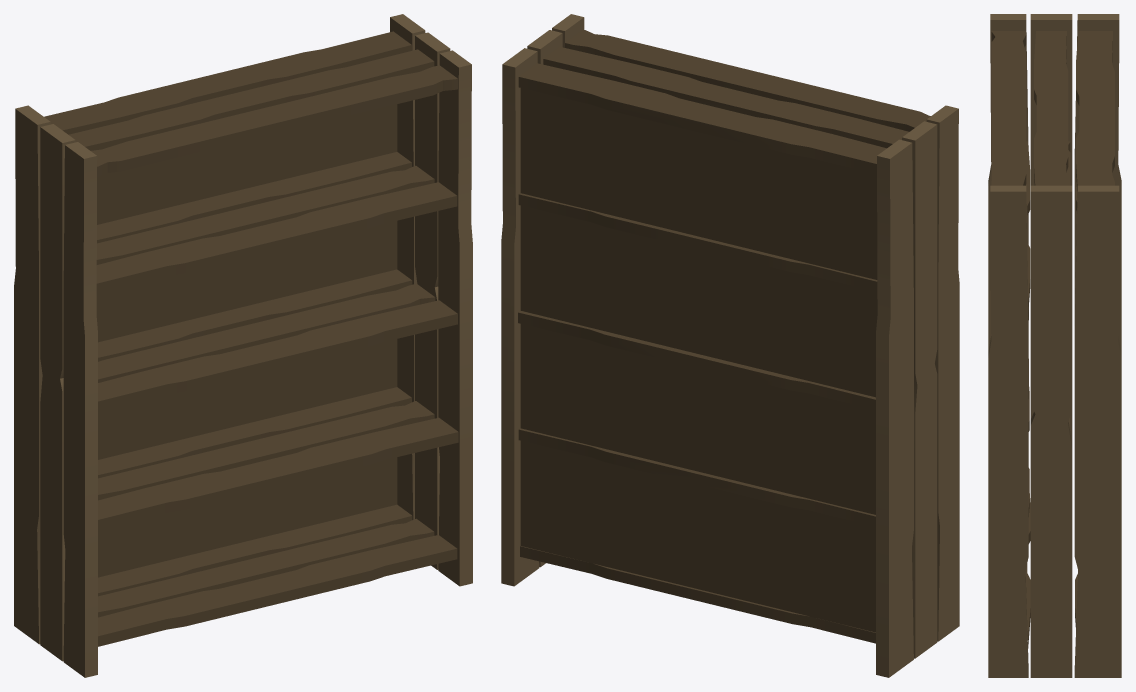
File: quaternius-ultimate-modular-ruins-bookcase-empty.glb
3 views of the same model, side by side, from view 1: azimuth 30°, elevation 25°; view 2: azimuth 150°, elevation 25°; view 3: azimuth 270°, elevation 25° (orthographic). The views are drawn at different scales.
Visible parts, largest first — view 1: Bookcase_Empty; view 2: Bookcase_Empty; view 3: Bookcase_Empty.
Boxes of the visible parts, x1,y1,x2,y2 form: Bookcase_Empty: (14,14,472,677); Bookcase_Empty: (501,14,959,677); Bookcase_Empty: (988,14,1121,677).
Size of the model in its own units: 2.08 by 2.65 by 0.6581.
